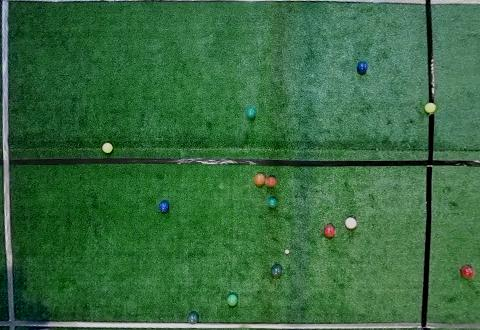blue: (159, 201, 169, 212), (358, 61, 367, 73)
green: (271, 264, 282, 278), (227, 293, 238, 307), (187, 312, 198, 325), (246, 107, 256, 119), (268, 196, 278, 207)
red: (460, 266, 474, 279), (323, 225, 336, 238), (344, 217, 357, 230), (266, 176, 277, 188), (255, 173, 265, 186)
vline: (420, 112, 480, 329), (0, 1, 19, 329), (425, 1, 479, 101)
white: (284, 249, 290, 255)
yellow: (424, 102, 437, 114), (102, 142, 114, 153)
